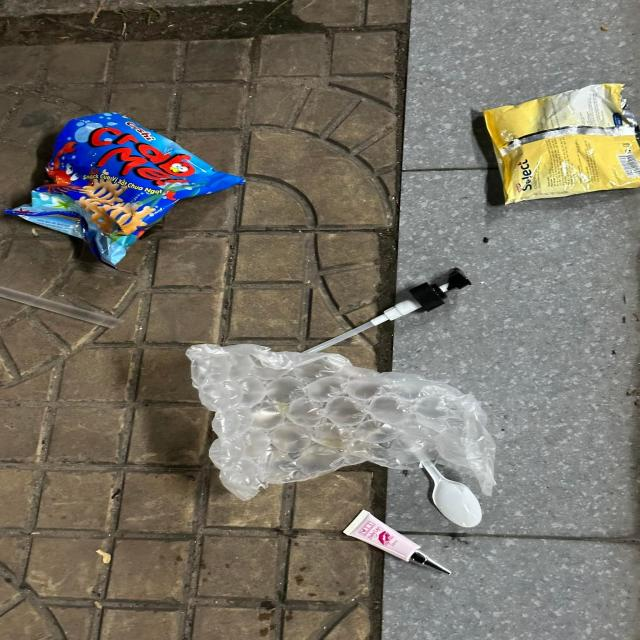bag: (184, 342, 499, 500)
plastic utensil: (407, 438, 484, 526)
snack package: (0, 110, 246, 266), (484, 82, 640, 206)
